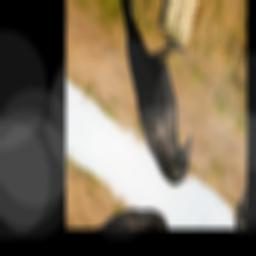Crow: (84, 0, 218, 193)
